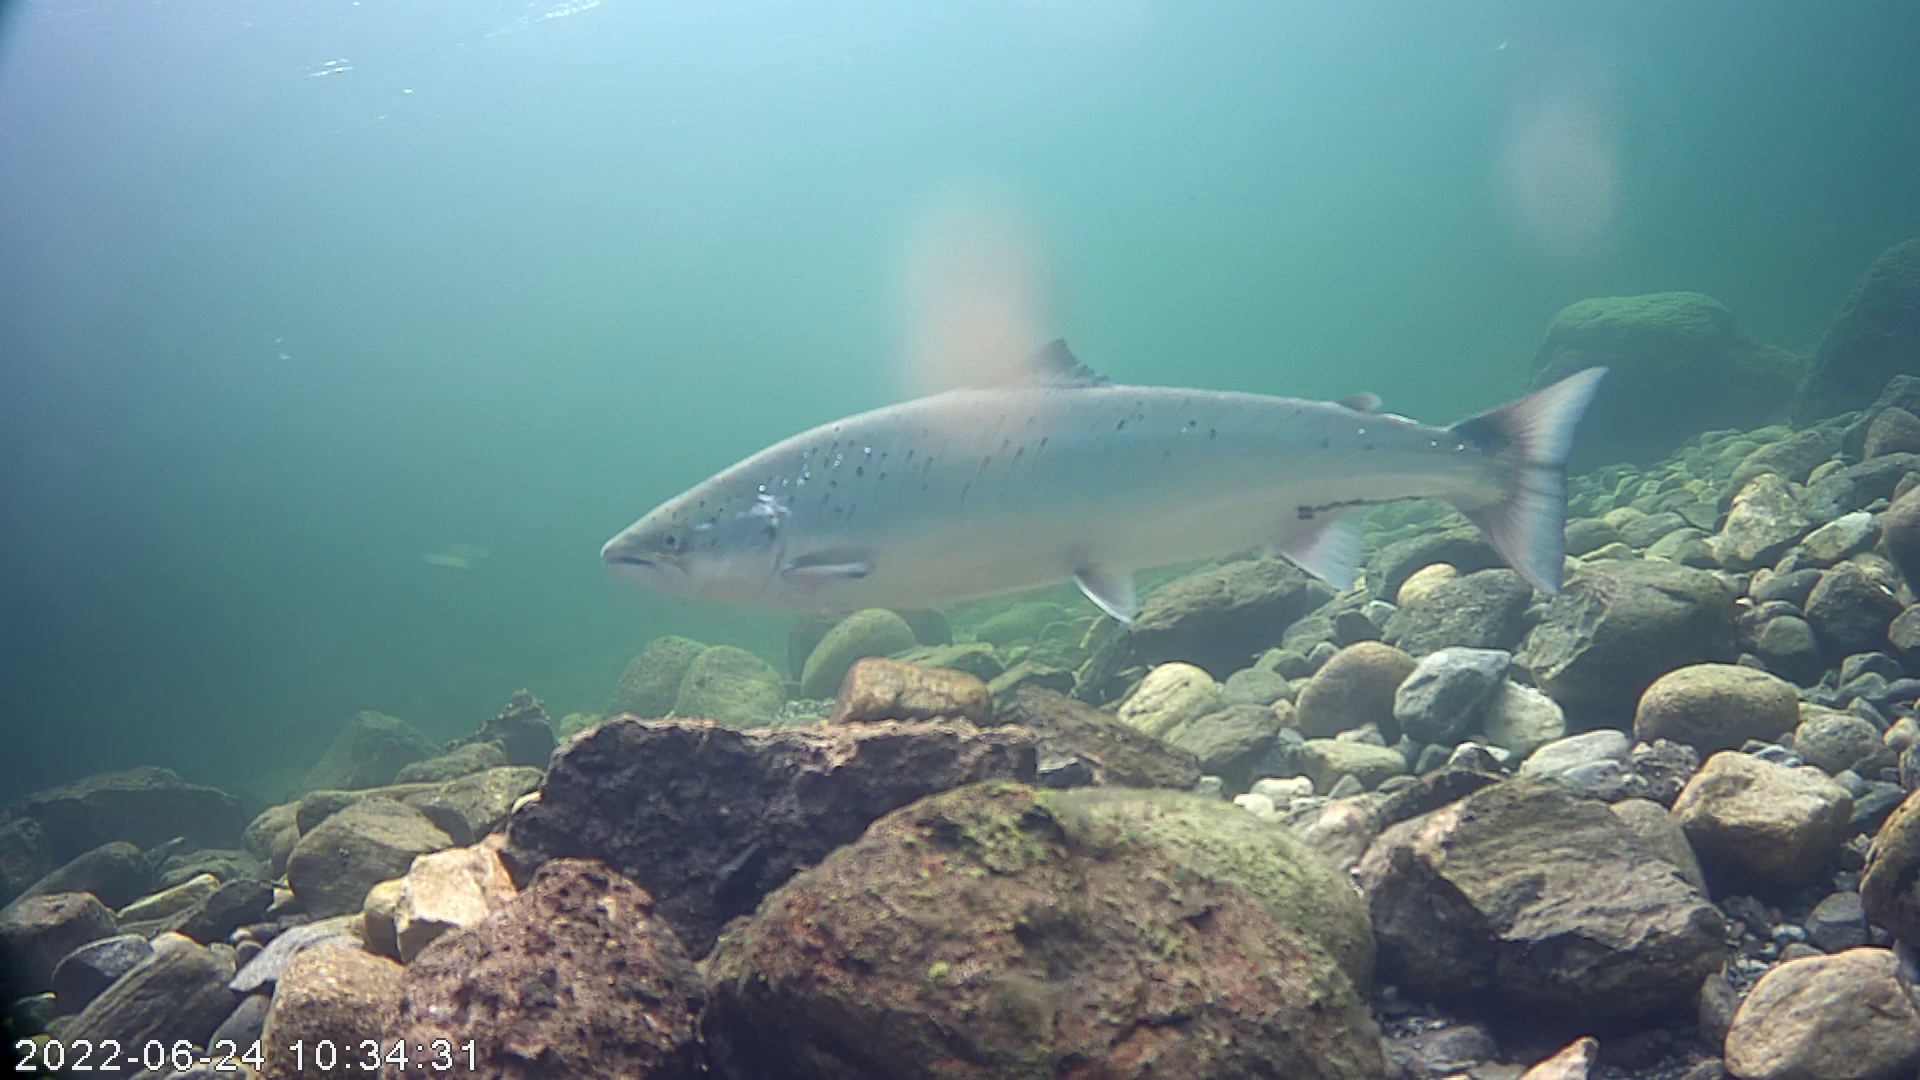salmon: (593, 334, 1611, 630)
